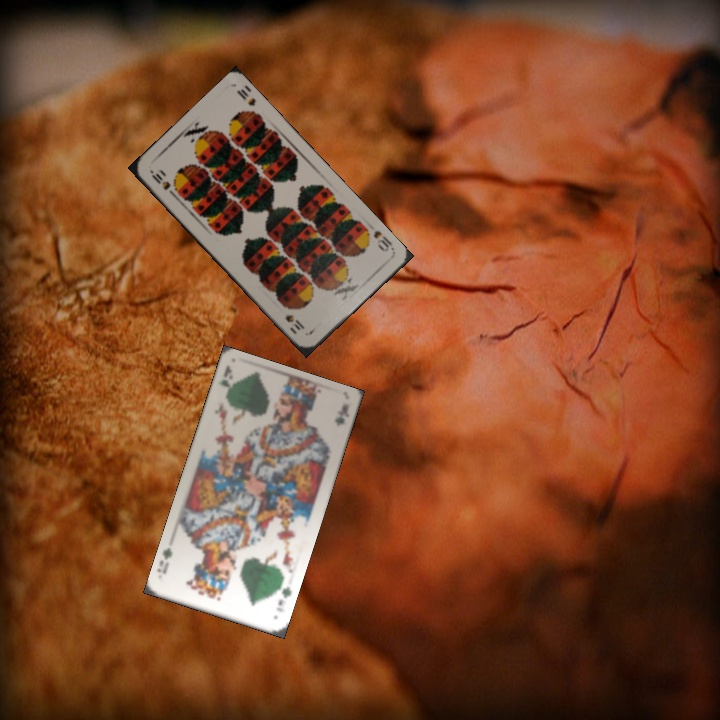GK: (214, 362, 236, 404), (272, 578, 294, 614)
S10: (146, 166, 178, 199), (369, 226, 395, 254)
